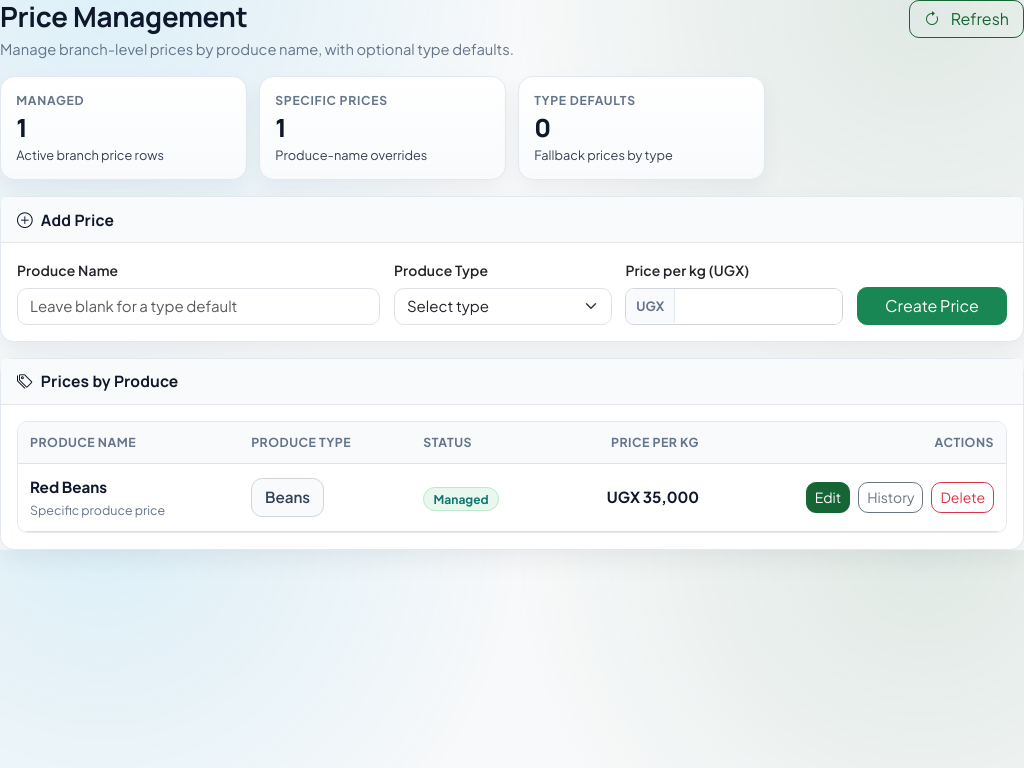
Test case: PriceManagement › opens the price history modal and renders audit entries
This screenshot has width=1024, height=768.
Click the button "History": (891, 498) x1=858 y1=482 x2=923 y2=513
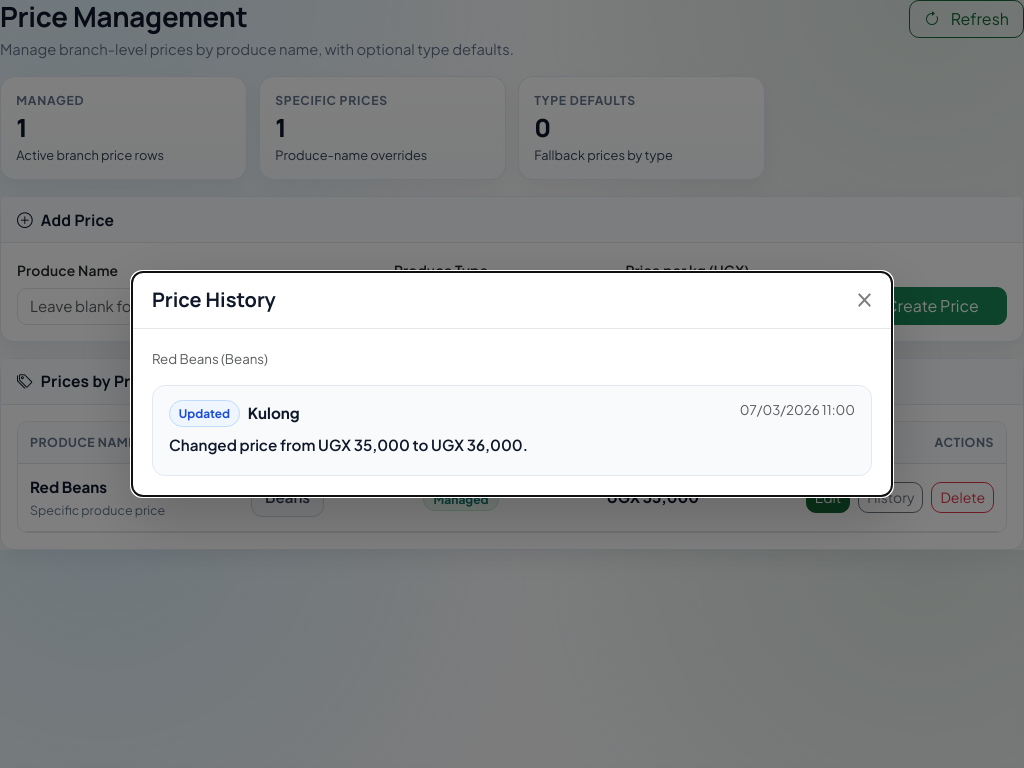
Result: the text "Price History" is shown at x1=152 y1=288 x2=276 y2=312
Result: the text "Kulong" is shown at x1=248 y1=402 x2=300 y2=425
Result: the text "Changed price from UGX" is shown at x1=169 y1=435 x2=528 y2=454
